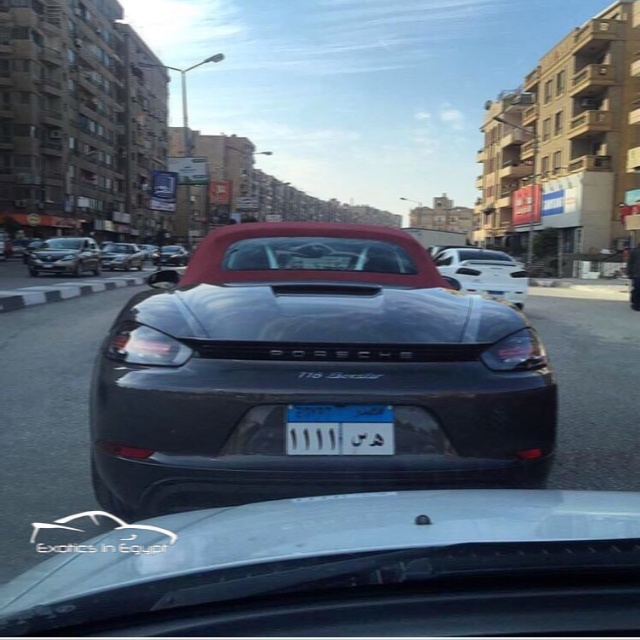License Plate: (280, 398, 399, 460)
